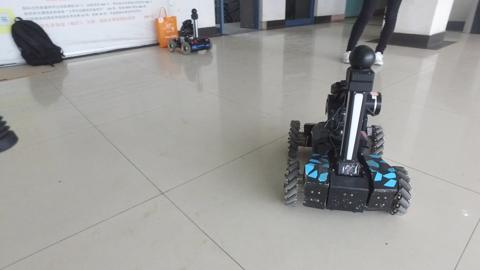bag: (9, 15, 65, 67), (154, 6, 180, 50)
chariot: (282, 43, 412, 216), (167, 7, 213, 55)
